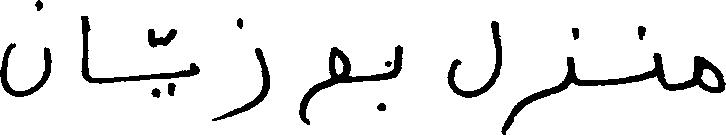X: (504, 23, 574, 134), (448, 16, 502, 134), (215, 13, 269, 125), (0, 0, 50, 101), (300, 42, 350, 129), (693, 51, 725, 97), (79, 11, 91, 87), (392, 40, 401, 82), (654, 48, 662, 90), (187, 58, 198, 81)
